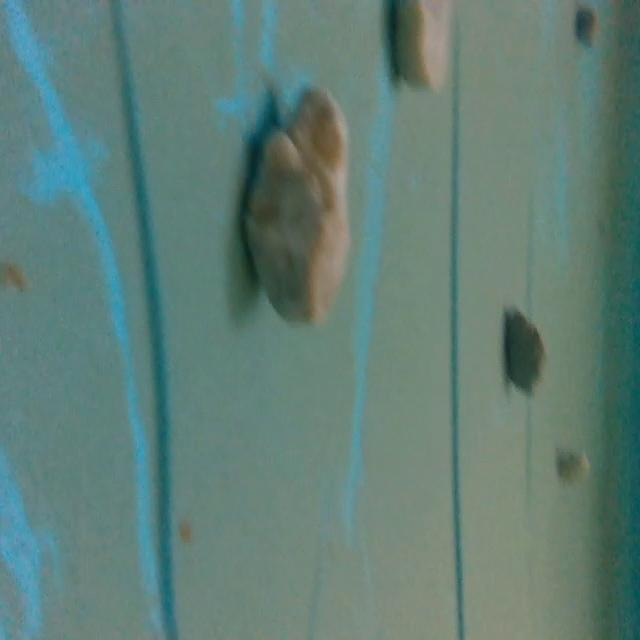rock: (234, 89, 358, 331), (389, 0, 461, 99), (498, 294, 551, 396), (553, 441, 593, 494)
